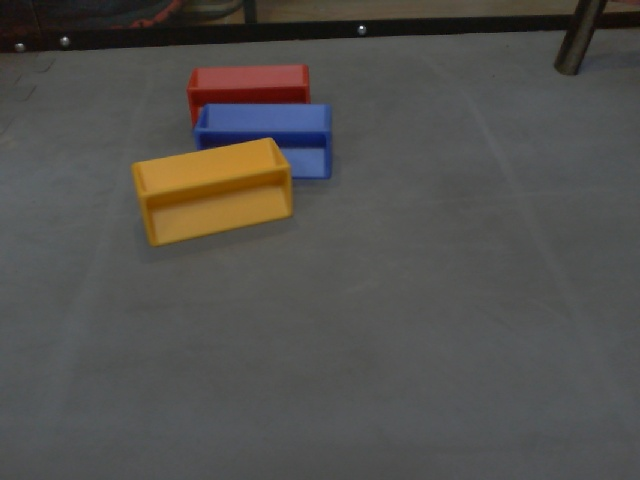BlueSample: (192, 100, 334, 185)
RedSample: (187, 63, 312, 129)
YellowSample: (128, 135, 293, 252)
